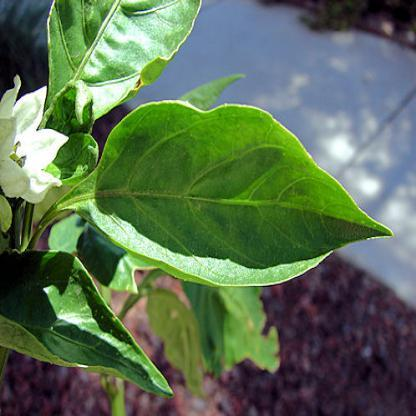Bell_pepper leaf spot: (88, 96, 396, 280)
